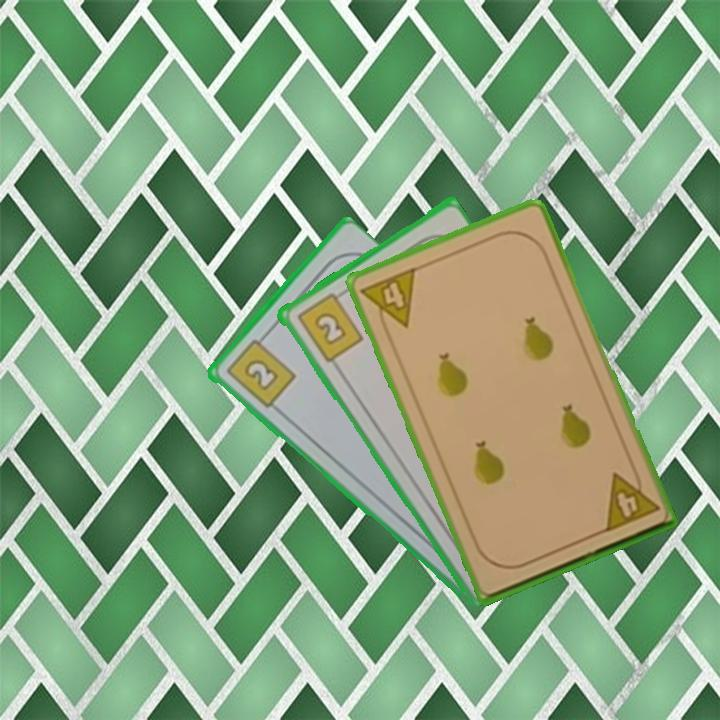2b: (222, 330, 298, 411), (293, 286, 366, 365)
4p: (357, 263, 419, 338), (600, 463, 662, 535)
